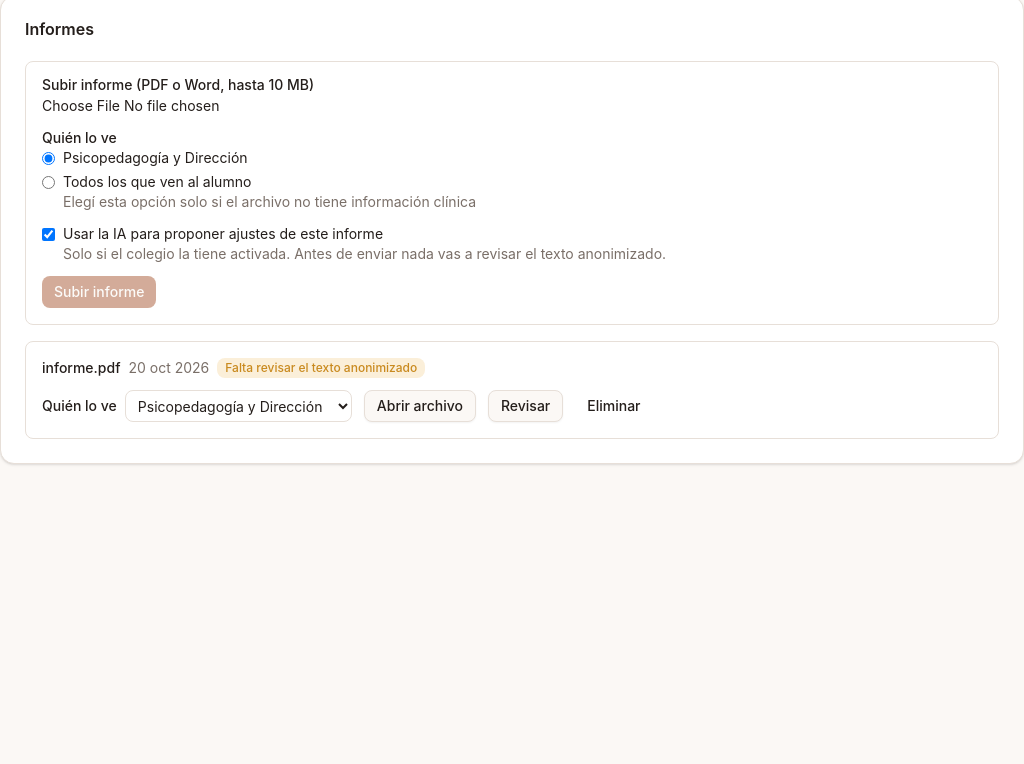
StudentReportsSection › lets psychopedagogy review the anonymized text, confirm the send and approve a proposal
Click the button "Revisar" at x=526, y=406, box x1=488 y1=390 x2=563 y2=422
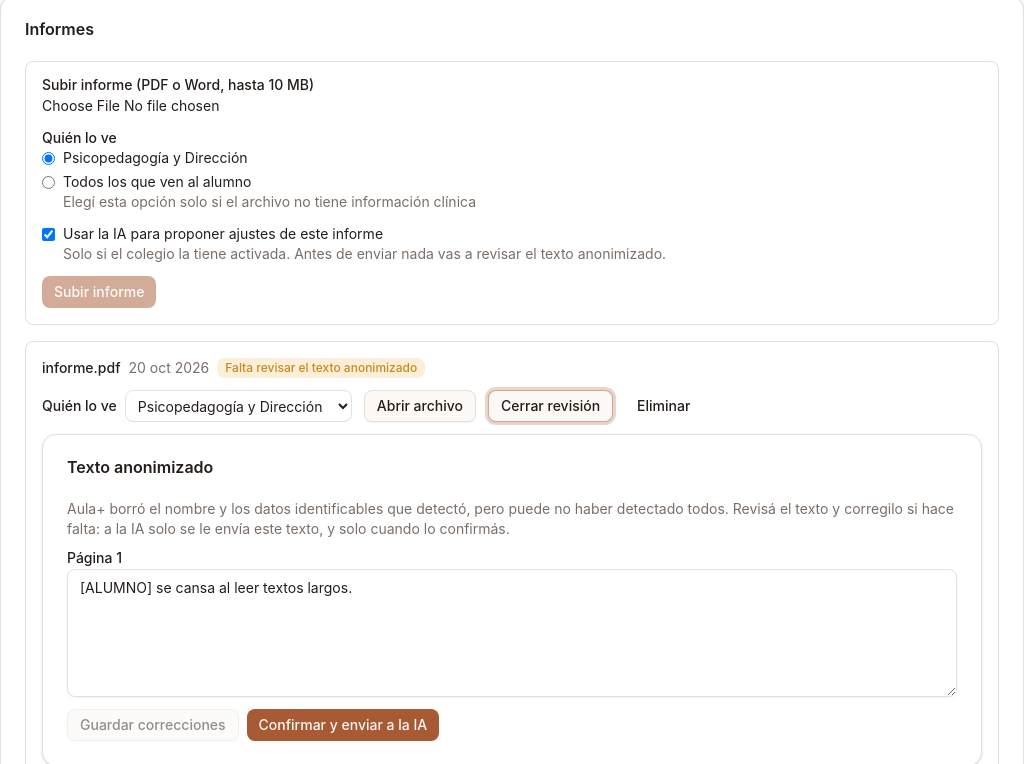
Expected: the text box labelled "Página 1" holds "[ALUMNO] se cansa al leer textos largos.", x1=67 y1=569 x2=957 y2=697
Click the button "Confirmar y enviar a la IA" at x=343, y=725, box x1=247 y1=709 x2=439 y2=741
(page scrolled)
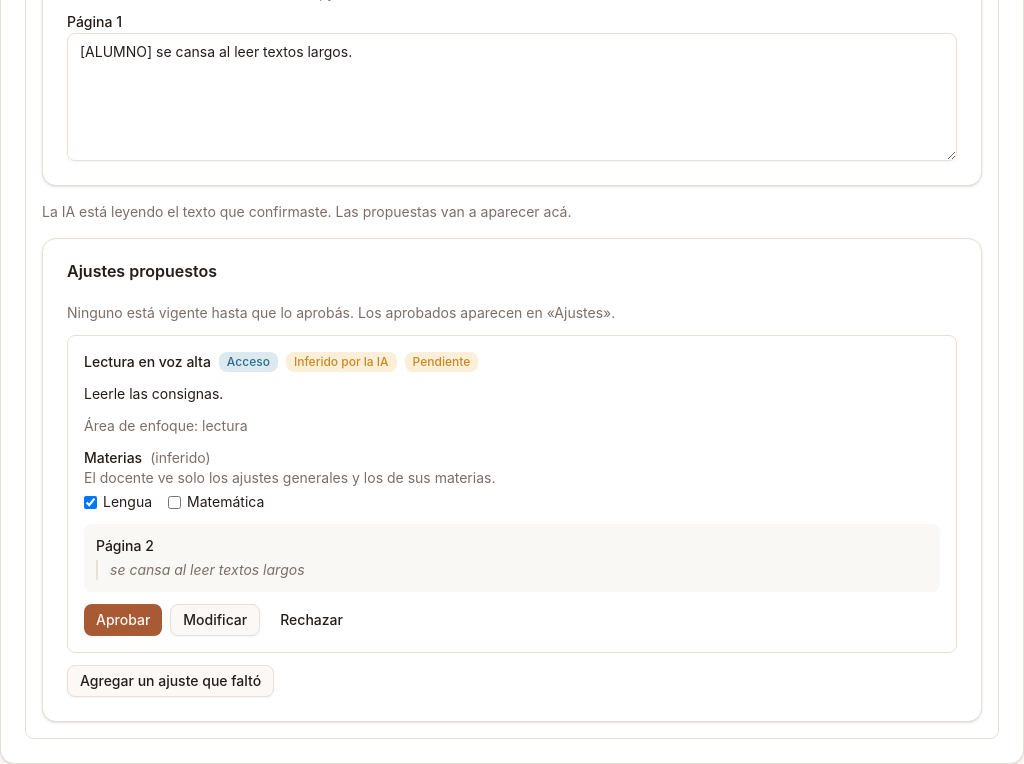
Click the button "Aprobar" at x=123, y=620, box x1=84 y1=604 x2=162 y2=636
(page scrolled)
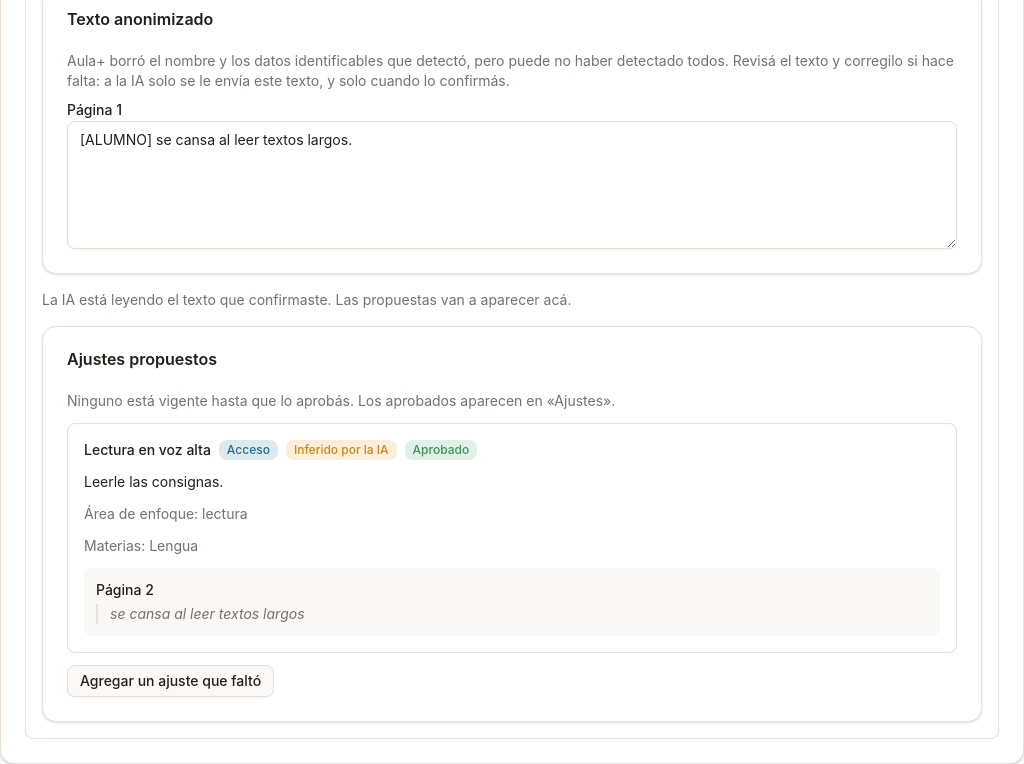
Expected: the text "Aprobado" is shown, x1=405 y1=440 x2=477 y2=460
